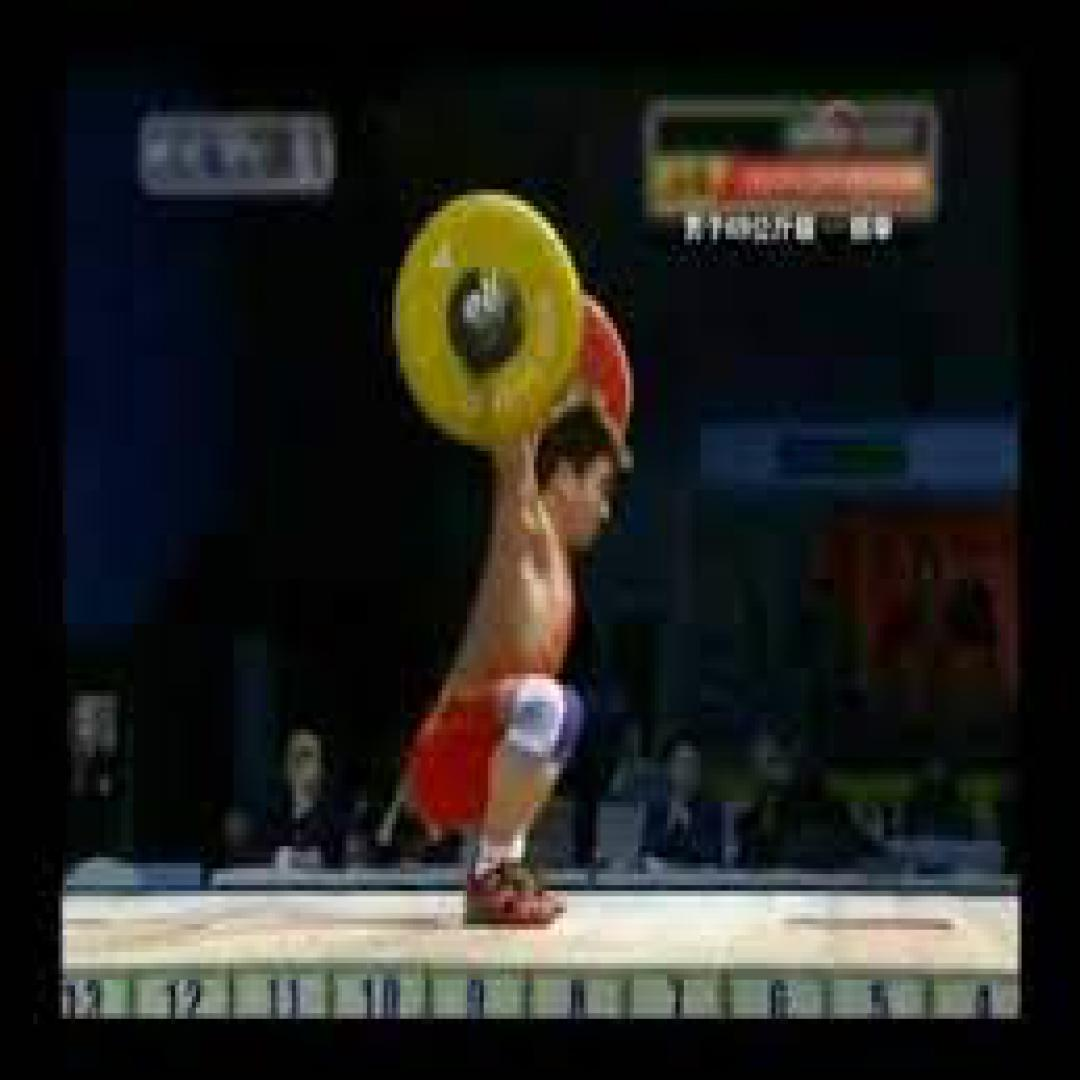Bar: (459, 290, 492, 328)
Barbell: (396, 189, 584, 440)
